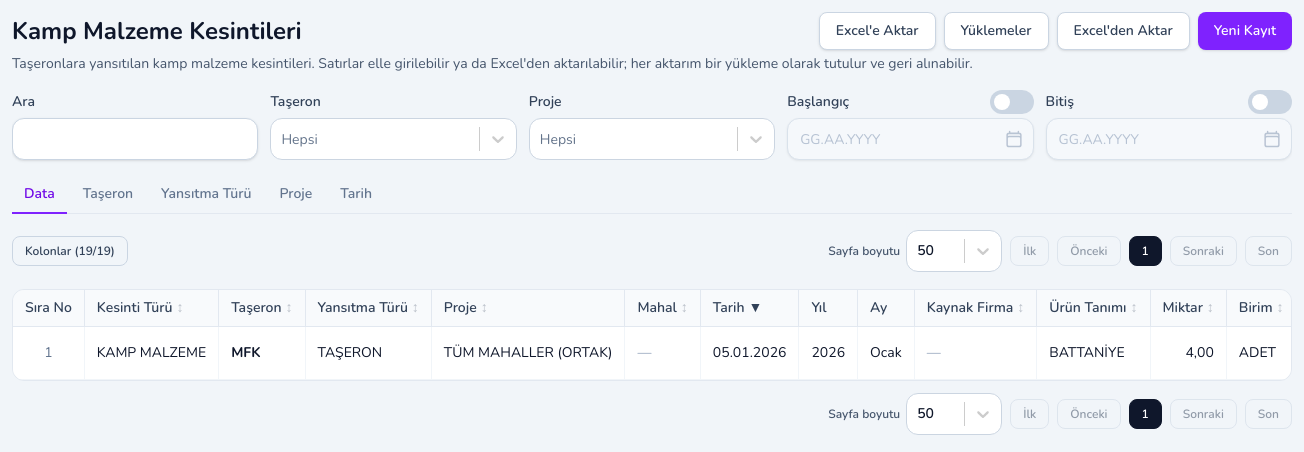
it: KampMalzemeKesintileriPage › Taşeron / Yansıtma Türü / Proje / Tarih özet sekmeleri yalnız tutarları toplar
The image size is (1304, 452).
Expected: the text "BATTANİYE" is shown, [1049,343,1125,362]
Click the tab "Tarih" at x=356, y=195, box [328,176,384,214]
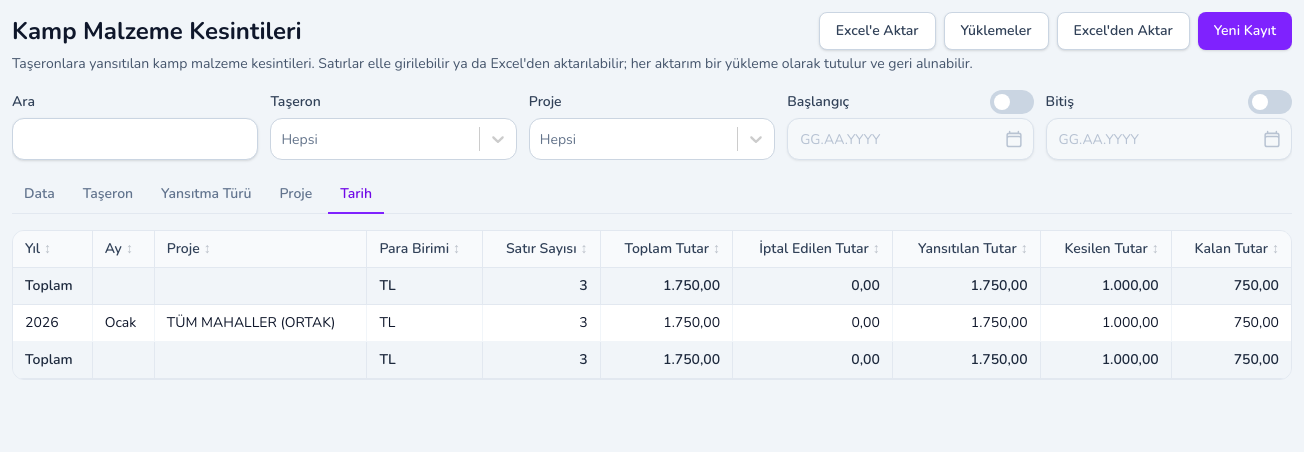
Expected: the text "Ocak" is shown, [105,313,136,332]
Now the text "750,00" is shown 3 times, box [1234,276,1279,295]; [1234,313,1279,332]; [1234,350,1279,369]
